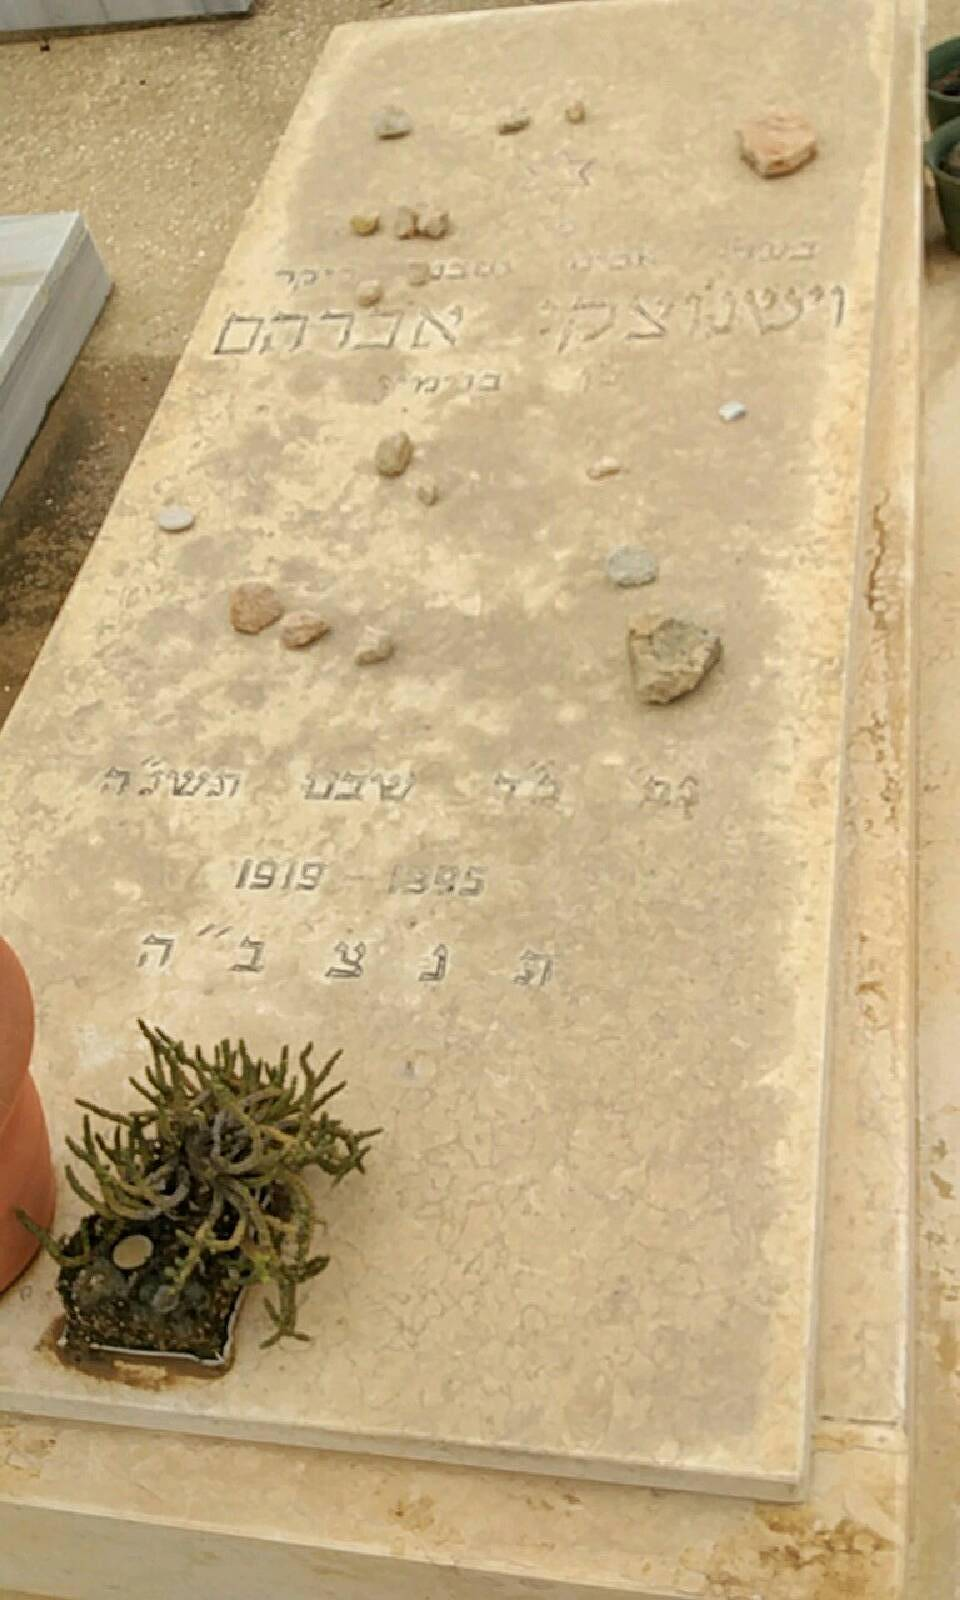vault: (5, 43, 944, 1574)
